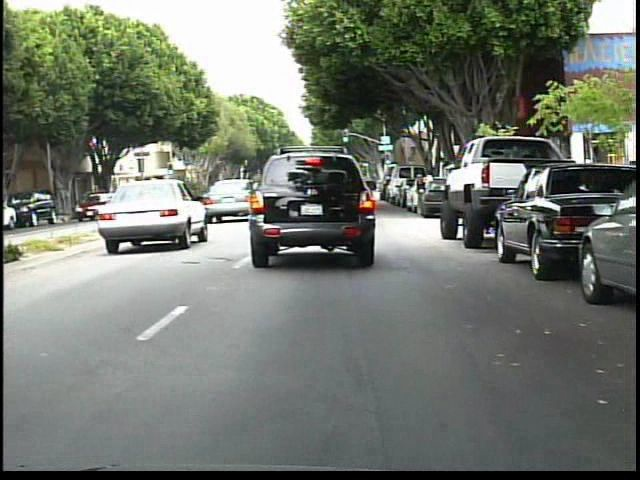person: (413, 171, 427, 219), (421, 166, 436, 208)
